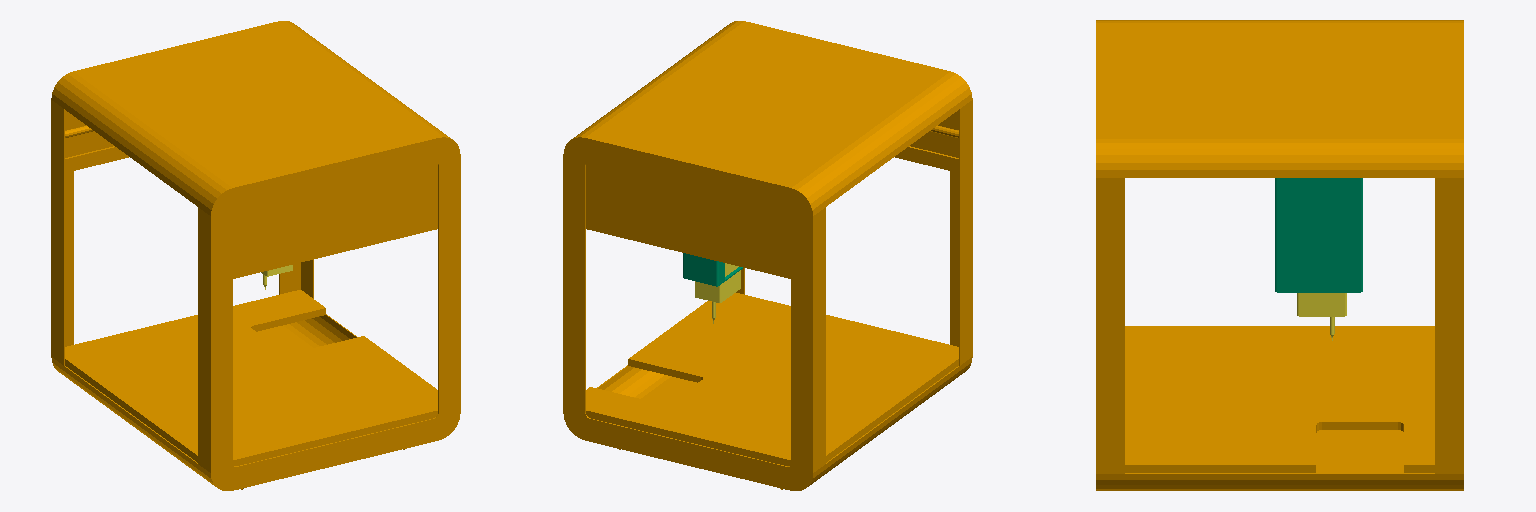
URDF robot description (ot_2_simulation_v6):
<?xml version="1.0" ?>
<robot name="ot_2_simulation_v6">

<material name="silver">
  <color rgba="0.700 0.700 0.700 1.000"/>
</material>

<link name="base_link">
  <inertial>
    <origin xyz="0 0 0" rpy="0 0 0"/>
    <mass value="68.1119463989402"/>
    <inertia ixx="7.0141417545975795" iyy="5.985802412770951" izz="5.106927583996319" ixy="0.10228733956301146" iyz="-0.06957056825245576" ixz="-0.08354446854026595"/>
  </inertial>
  <visual>
    <origin xyz="0 0 0" rpy="0 0 0"/>
    <geometry>
      <mesh filename="meshes/base_link.stl" scale="0.001 0.001 0.001"/>
    </geometry>
    <material name="silver"/>
    <material/>
  </visual>
  <collision concave="true">
    <origin xyz="0 0 0" rpy="0 0 0"/>
    <geometry>
      <mesh filename="meshes/base_link.stl" scale="0.001 0.001 0.001"/>
    </geometry>
  </collision>
</link>

<link name="gantry_x1">
  <inertial>
    <origin xyz="0.00692295475195798 -0.29499999999999993 -1.1102230246251565e-16" rpy="0 0 0"/>
    <mass value="3.3869687995755164"/>
    <inertia ixx="0.10780738605936546" iyy="0.003400199498102885" izz="0.10626279483092096" ixy="-4.1134713777812583e-17" iyz="8.255449301118393e-17" ixz="-2.7755575615628914e-17"/>
  </inertial>
  <visual>
    <origin xyz="0.0 -0.295 -0.5375" rpy="0 0 0"/>
    <geometry>
      <mesh filename="meshes/gantry_x1.stl" scale="0.001 0.001 0.001"/>
    </geometry>
    <material name="silver"/>
    <material/>
  </visual>
  <collision>
    <origin xyz="0.0 -0.295 -0.5375" rpy="0 0 0"/>
    <geometry>
      <mesh filename="meshes/gantry_x1.stl" scale="0.001 0.001 0.001"/>
    </geometry>
  </collision>
</link>

<link name="gantry_y1">
  <inertial>
    <origin xyz="0.06596333681295505 0.05957087008776929 -0.05072453723400938" rpy="0 0 0"/>
    <mass value="3.3014835777313194"/>
    <inertia ixx="0.04508715161738053" iyy="0.03741738402111017" izz="0.014155908322238009" ixy="-8.494578290435019e-05" iyz="-0.0003679798637509363" ixz="0.0007546307085106452"/>
  </inertial>
  <visual>
    <origin xyz="-0.01 -0.0 -0.5375" rpy="0 0 0"/>
    <geometry>
      <mesh filename="meshes/gantry_y1.stl" scale="0.001 0.001 0.001"/>
    </geometry>
    <material name="silver"/>
    <material/>
  </visual>
  <collision>
    <origin xyz="-0.01 -0.0 -0.5375" rpy="0 0 0"/>
    <geometry>
      <mesh filename="meshes/gantry_y1.stl" scale="0.001 0.001 0.001"/>
    </geometry>
  </collision>
</link>

<link name="gantry_z1">
  <inertial>
    <origin xyz="0.3674999999999996 0.004411162683713804 -0.37067937324196953" rpy="0 0 0"/>
    <mass value="12.263811195623957"/>
    <inertia ixx="0.10134509689932147" iyy="0.09697411572187409" izz="0.011595676161899243" ixy="4.163336342344337e-17" iyz="0.0014757232895330485" ixz="-7.216449660063518e-16"/>
  </inertial>
  <visual>
    <origin xyz="0.295 -0.0665 -0.55" rpy="0 0 0"/>
    <geometry>
      <mesh filename="meshes/gantry_z1.stl" scale="0.001 0.001 0.001"/>
    </geometry>
    <material name="silver"/>
    <material/>
  </visual>
  <collision>
    <origin xyz="0.295 -0.0665 -0.55" rpy="0 0 0"/>
    <geometry>
      <mesh filename="meshes/gantry_z1.stl" scale="0.001 0.001 0.001"/>
    </geometry>
  </collision>
</link>

<joint name="Slider_3" type="prismatic">
  <origin xyz="0.0 0.295 0.5375" rpy="0 0 0"/>
  <parent link="base_link"/>
  <child link="gantry_x1"/>
  <axis xyz="-1.0 -0.0 0.0"/>
  <limit upper="0.26" lower="-0.18" effort="100" velocity="100"/>
</joint>
<transmission name="Slider_3_tran">
  <type>transmission_interface/SimpleTransmission</type>
  <joint name="Slider_3">
    <hardwareInterface>PositionJointInterface</hardwareInterface>
  </joint>
  <actuator name="Slider_3_actr">
    <hardwareInterface>PositionJointInterface</hardwareInterface>
    <mechanicalReduction>1</mechanicalReduction>
  </actuator>
</transmission>

<joint name="Slider_4" type="prismatic">
  <origin xyz="0.01 -0.295 0.0" rpy="0 0 0"/>
  <parent link="gantry_x1"/>
  <child link="gantry_y1"/>
  <axis xyz="0.0 -1.0 0.0"/>
  <limit upper="0.26" lower="-0.13" effort="100" velocity="100"/>
</joint>
<transmission name="Slider_4_tran">
  <type>transmission_interface/SimpleTransmission</type>
  <joint name="Slider_4">
    <hardwareInterface>PositionJointInterface</hardwareInterface>
  </joint>
  <actuator name="Slider_4_actr">
    <hardwareInterface>PositionJointInterface</hardwareInterface>
    <mechanicalReduction>1</mechanicalReduction>
  </actuator>
</transmission>

<joint name="Slider_5" type="prismatic">
  <origin xyz="-0.305 0.0665 0.06" rpy="0 0 0"/>
  <parent link="gantry_y1"/>
  <child link="gantry_z1"/>
  <axis xyz="0.0 0.0 1.0"/>
  <limit upper="0.17" lower="0.05" effort="100" velocity="100"/>
</joint>
<transmission name="Slider_5_tran">
  <type>transmission_interface/SimpleTransmission</type>
  <joint name="Slider_5">
    <hardwareInterface>PositionJointInterface</hardwareInterface>
  </joint>
  <actuator name="Slider_5_actr">
    <hardwareInterface>PositionJointInterface</hardwareInterface>
    <mechanicalReduction>1</mechanicalReduction>
  </actuator>
</transmission>

</robot>

--- Facts derived from the render (not from the file) ---
The picture shows the robot from 3 angles, left to right: view 1: azimuth 30°, elevation 25°; view 2: azimuth 150°, elevation 25°; view 3: azimuth 270°, elevation 25°; orthographic projection.
Model ot_2_simulation_v6 with 4 links and 3 joints (3 prismatic), rooted at base_link, posed joints at zero except 1 at the middle of their limits (Slider_5 = 0.11).
Visible links, largest first — view 1: base_link; view 2: base_link, gantry_y1, gantry_z1; view 3: base_link, gantry_y1, gantry_z1.
Link boxes in pixels (x1,y1,x2,y2): base_link: [51, 21, 460, 490]; base_link: [563, 21, 972, 490]; gantry_y1: [683, 253, 742, 286]; gantry_z1: [695, 263, 740, 323]; base_link: [1096, 20, 1463, 490]; gantry_y1: [1275, 178, 1362, 292]; gantry_z1: [1297, 293, 1346, 340].
Bounding box of the posed robot: 0.57 × 0.63 × 0.69 m (x, y, z).
4 mesh visuals loaded from 4 distinct referenced files (4 binary STL).